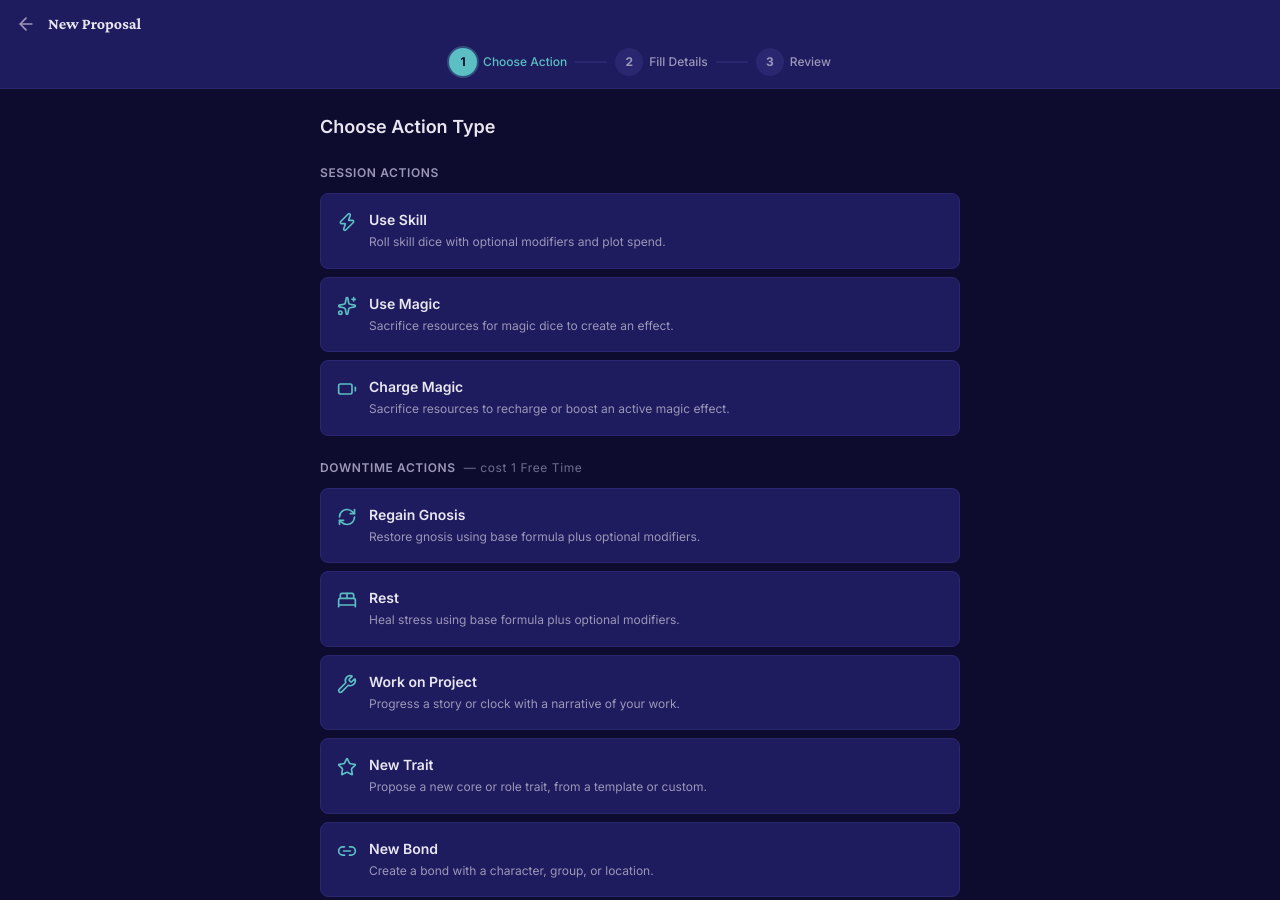
Test: proposal wizard — full use_skill flow › navigates to Step 2 after selecting Use Skill (via session)
Click the button with aria-label "Select Use Skill": coordinates (398, 220) [320,193,960,268]
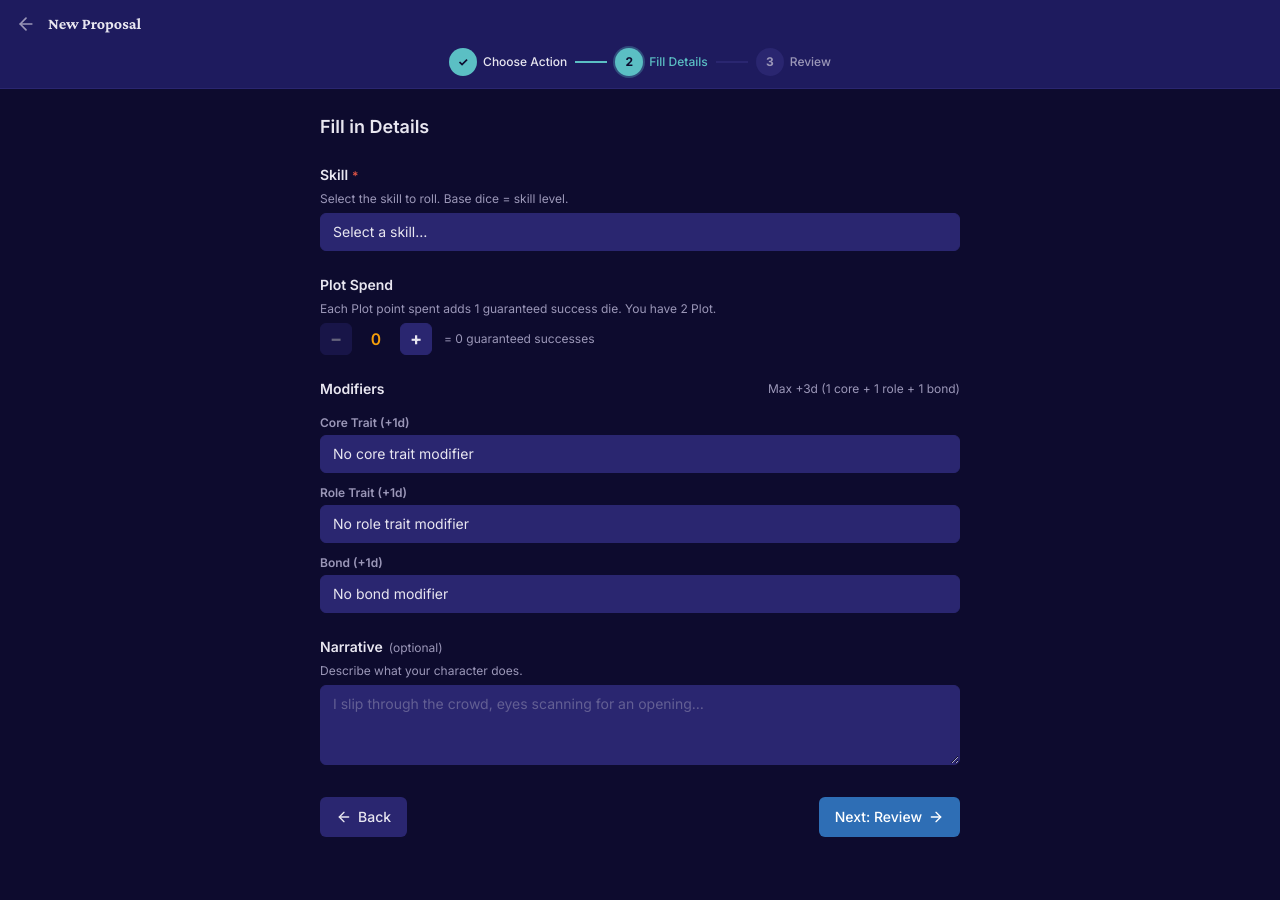
Now the heading "Fill in Details" is shown, box [320,116,429,137]
